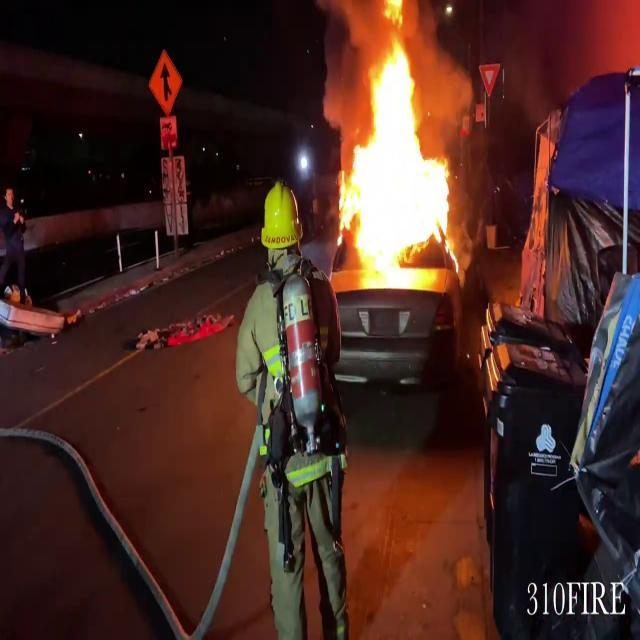Fire: (336, 8, 460, 280)
